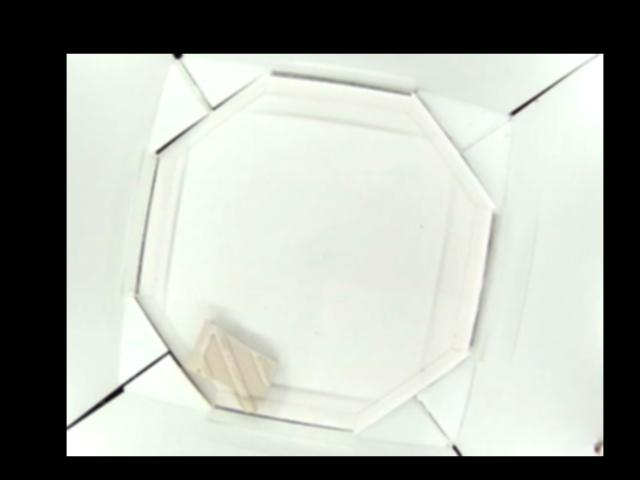China: (185, 320, 272, 414)
